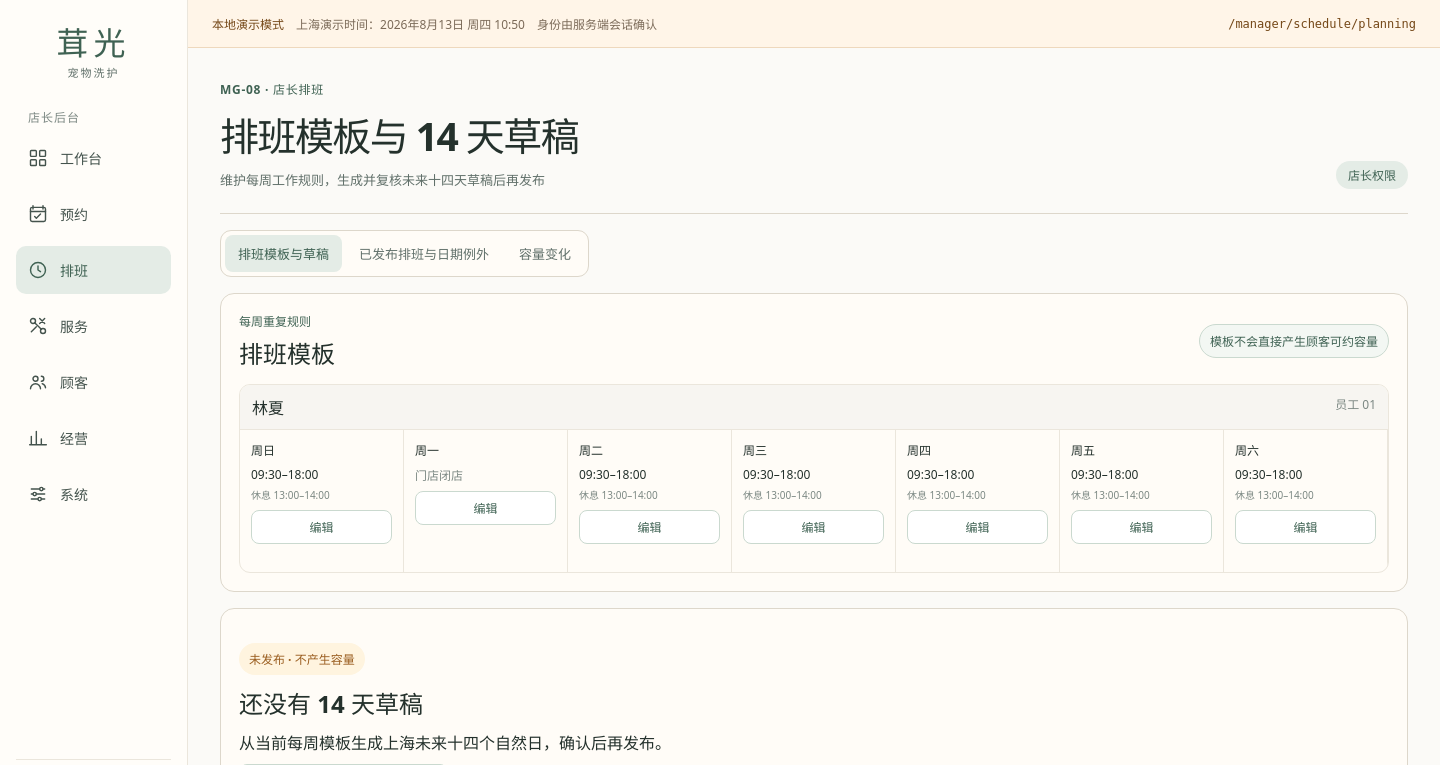
Test: MG-08 排班模板与十四天草稿页面 › 模板校验失败时保留编辑内容与明确错误
The width and height of the screenshot is (1440, 765).
Click the button with aria-label "编辑林夏周四模板" at [978, 526], box left=907, top=510, right=1048, bottom=544
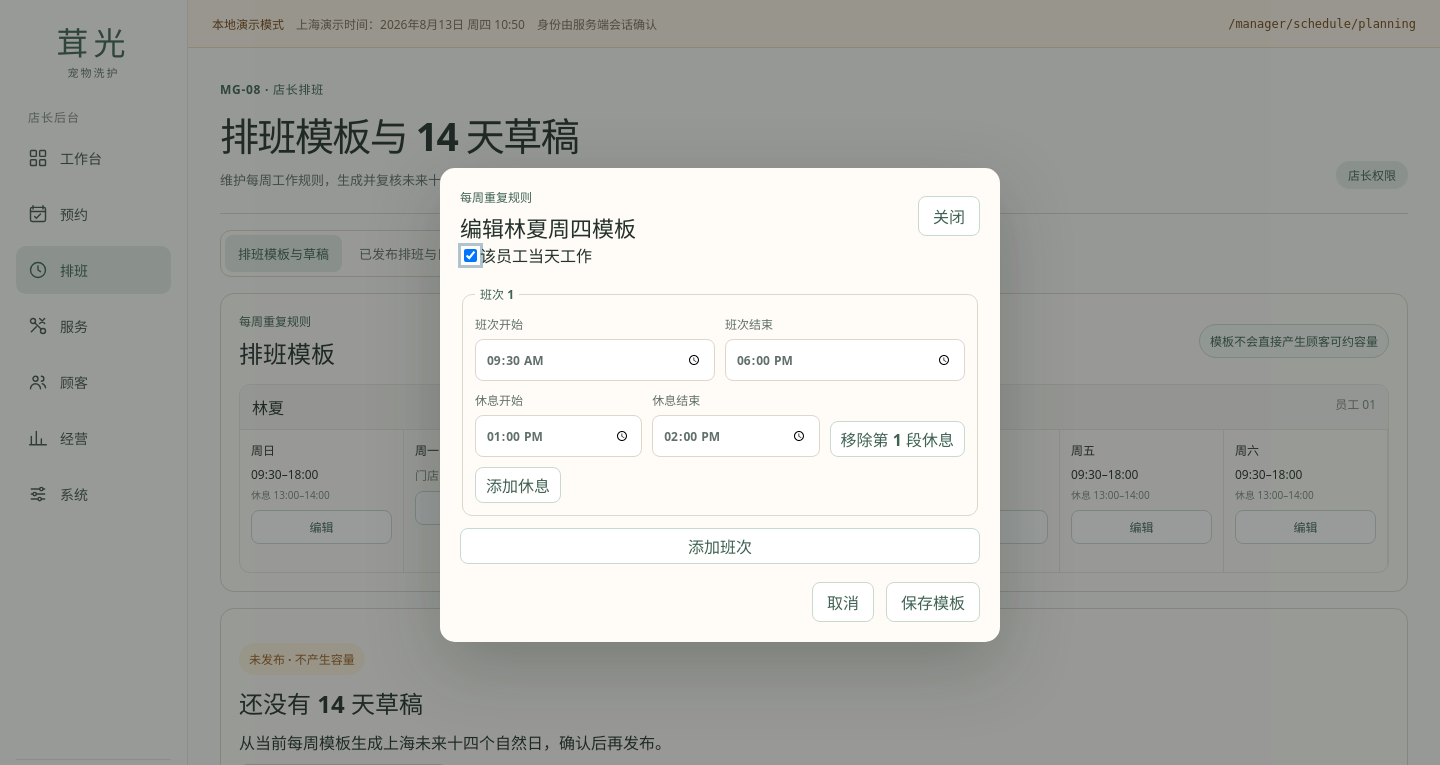
Replace the text in the time field labelled "班次结束" with "20:00" at [845, 360], box left=725, top=339, right=965, bottom=381
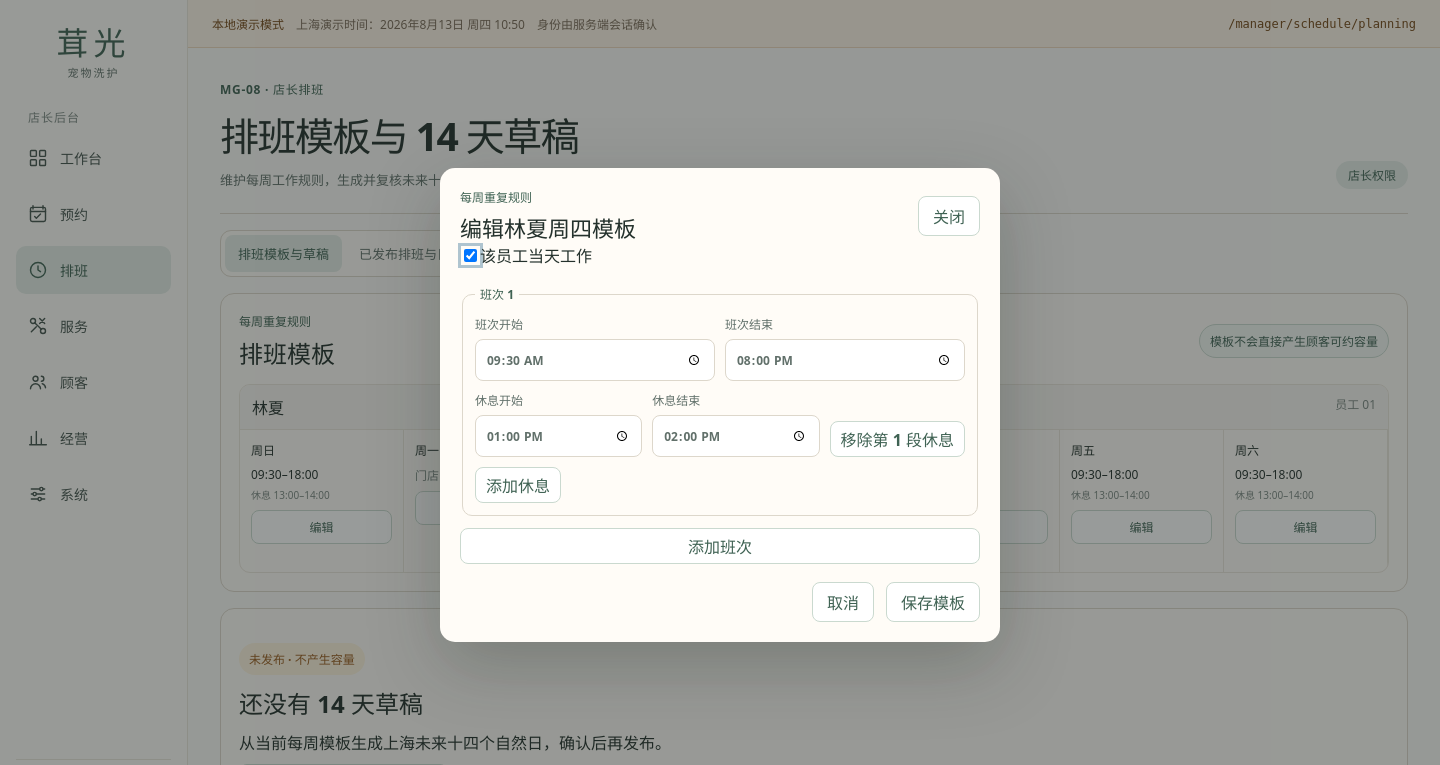
Click the button "保存模板" at [933, 602], box left=886, top=582, right=980, bottom=622
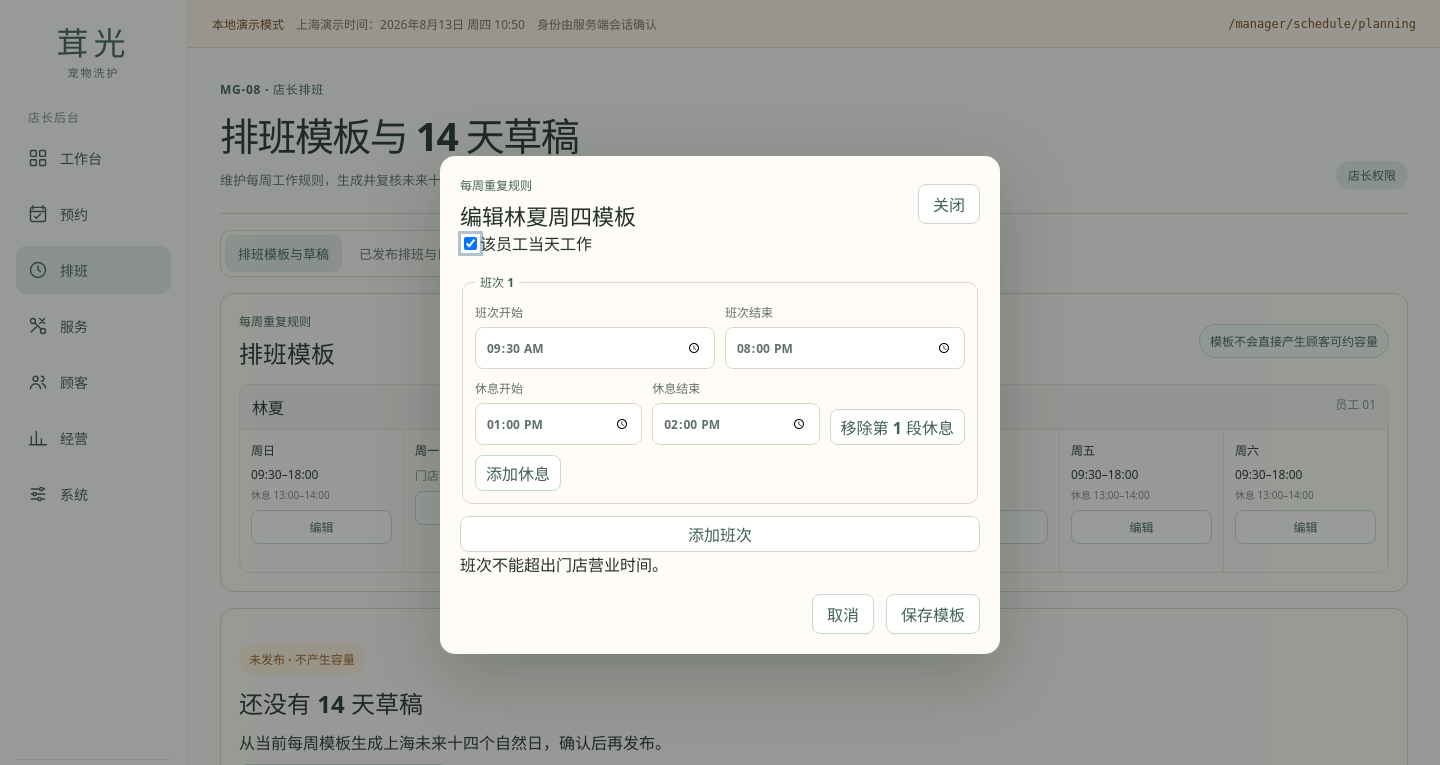
Now the message reads "班次不能超出门店营业时间。", box left=460, top=554, right=668, bottom=576
